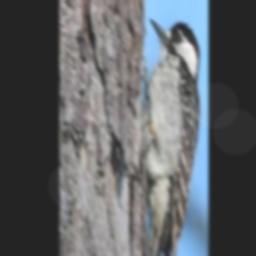Woodpecker: (125, 18, 200, 256)
